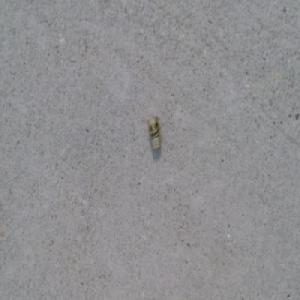BoltNutSet: (146, 114, 163, 154)
